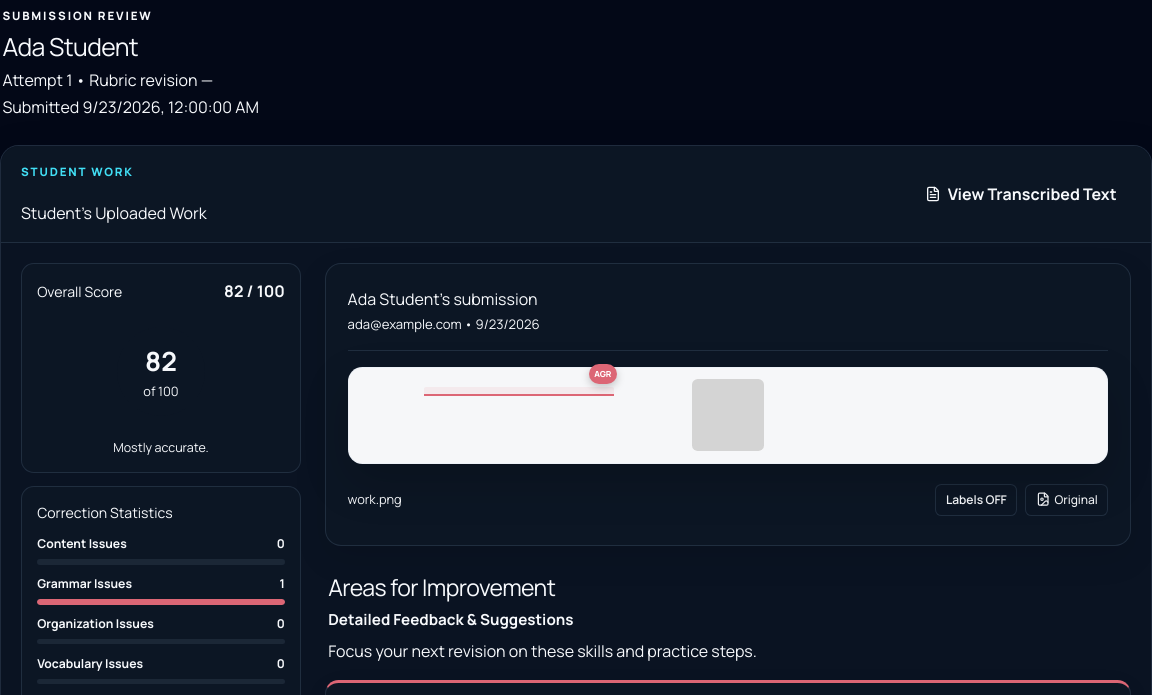
SubmissionReview › tapping an annotation opens correction details
What coordinates should you click on to do the following:
click the button with aria-label "AGR: Use the existential form"
I would click on:
 (519, 391)
Its box is [424,386,614,396].
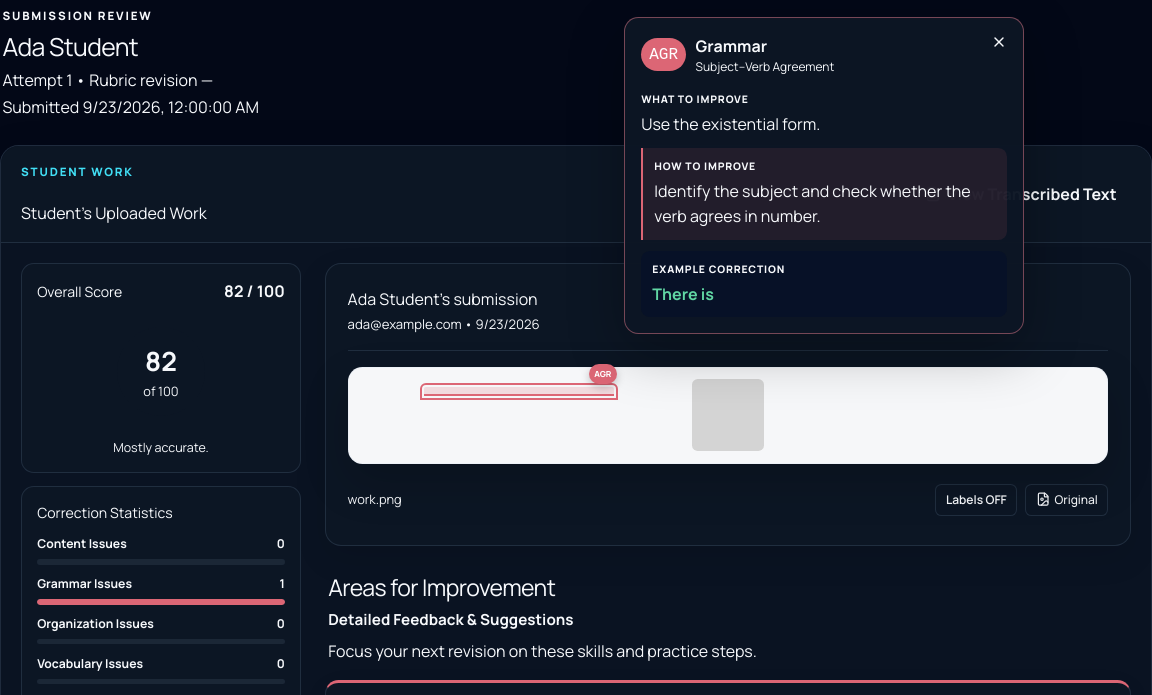
Now the dialog named "Correction AGR" is shown, box [624,16,1024,334]
